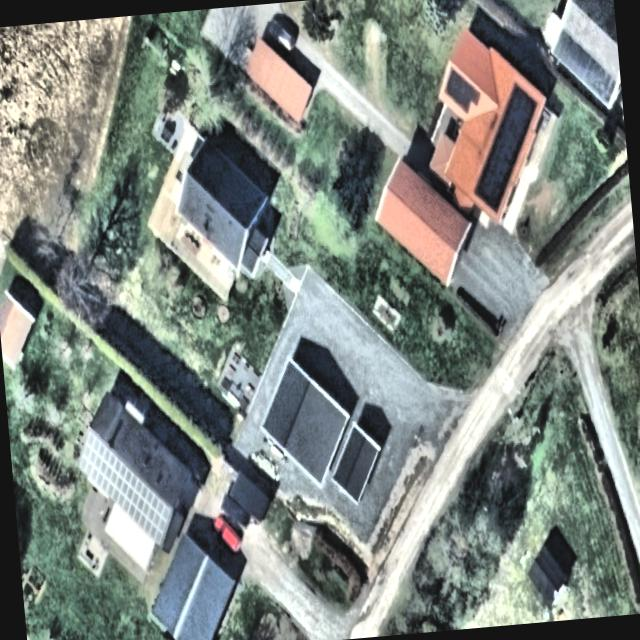roof_pv: (488, 82, 544, 184), (74, 426, 119, 511), (468, 135, 511, 214), (438, 59, 483, 118), (114, 452, 148, 526), (134, 482, 172, 545)
